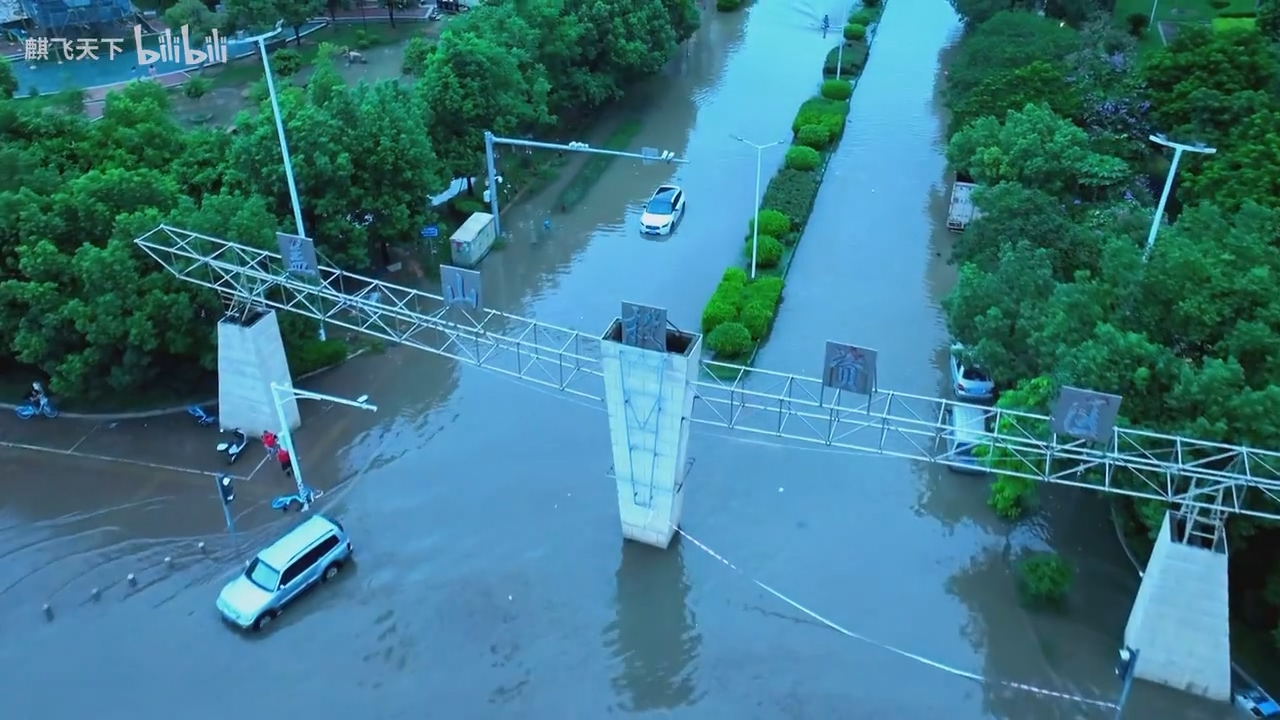puddle: (13, 424, 1069, 708), (559, 73, 959, 352)
